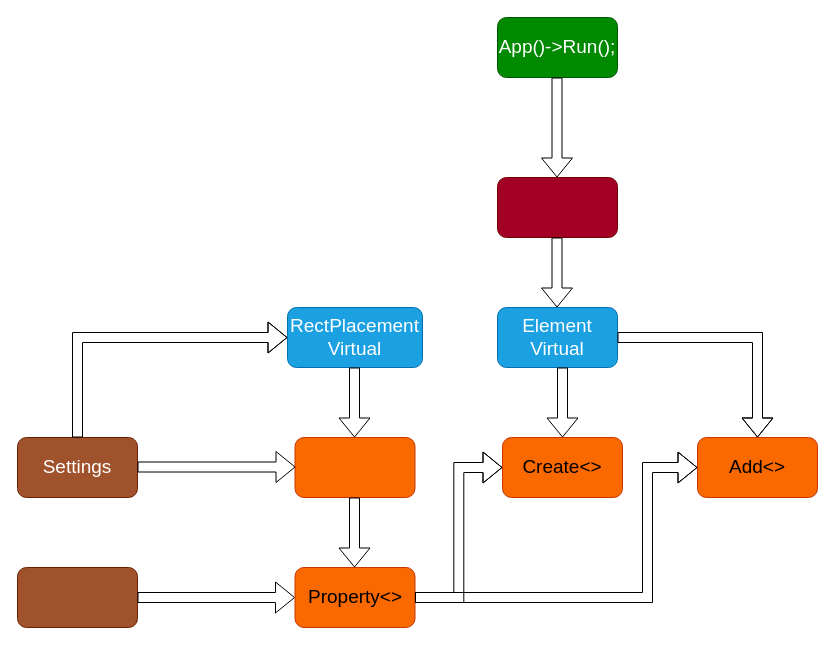
The diagram is 835 pixels wide and 645 high, and some of its shapes have lost their labels. Here are the shapes that lost their labels. From the top down, the box of each, then its label:
(496, 176, 618, 238): DataSet
(294, 436, 415, 498): Rect<>
(16, 566, 138, 628): Style
